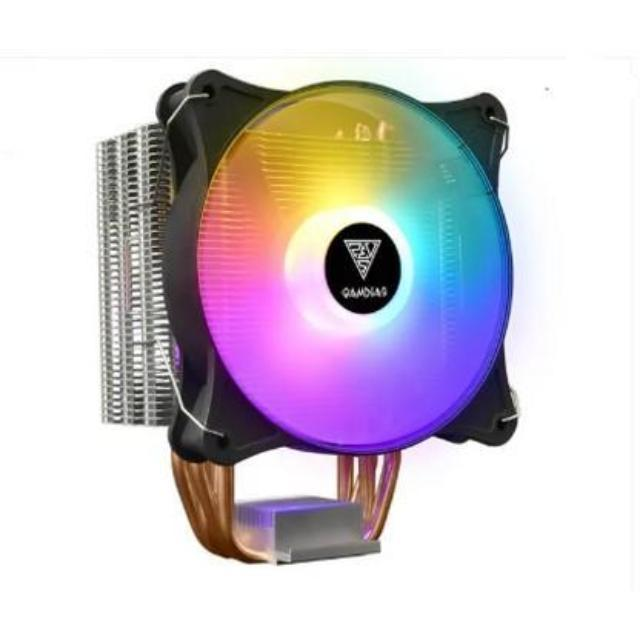CPU_Fan: (93, 65, 516, 567)
